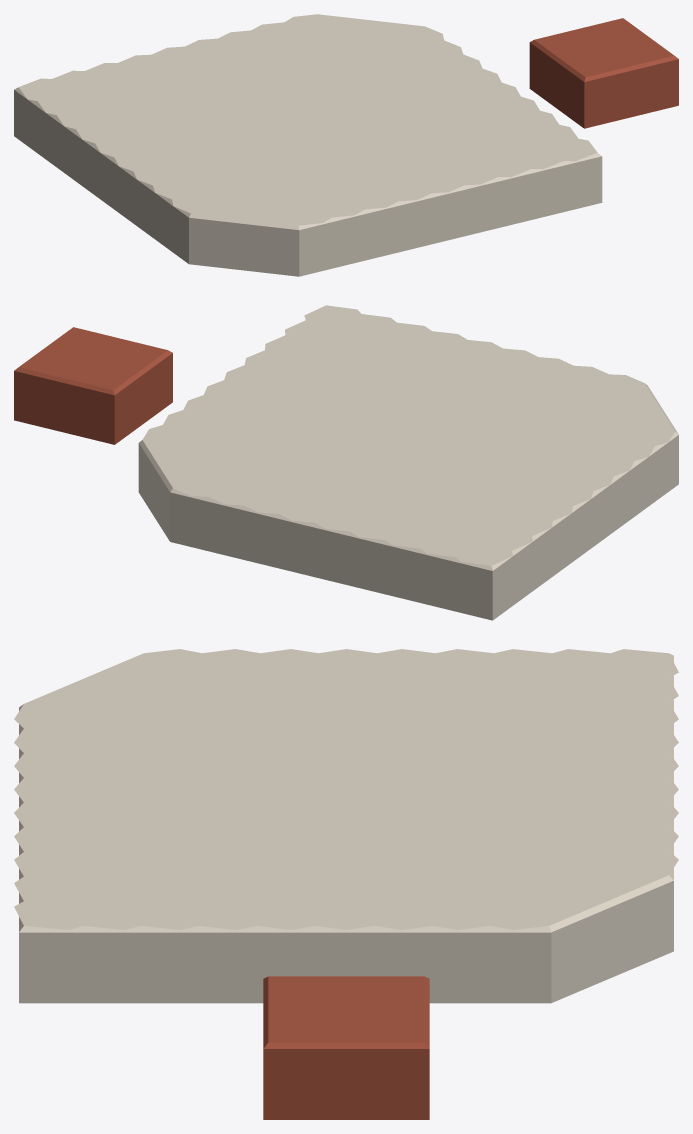
Rendered from mahsulot.glb.
3 views of the same model, one above another, from view 1: azimuth 30°, elevation 25°; view 2: azimuth 150°, elevation 25°; view 3: azimuth 270°, elevation 25° (orthographic). The views are drawn at different scales.
Parts seen in each view (by area): view 1: mahsulot_A, mahsulot_B; view 2: mahsulot_A, mahsulot_B; view 3: mahsulot_A, mahsulot_B.
Boxes of the visible parts, box(x1,y1,x2,y2) form: mahsulot_A: box(14, 14, 602, 276); mahsulot_B: box(529, 18, 678, 128); mahsulot_A: box(138, 305, 678, 620); mahsulot_B: box(14, 327, 172, 444); mahsulot_A: box(14, 649, 678, 1003); mahsulot_B: box(263, 976, 429, 1119).
Bounding box in the file's own units: 0.2815 × 0.025 × 0.2.
